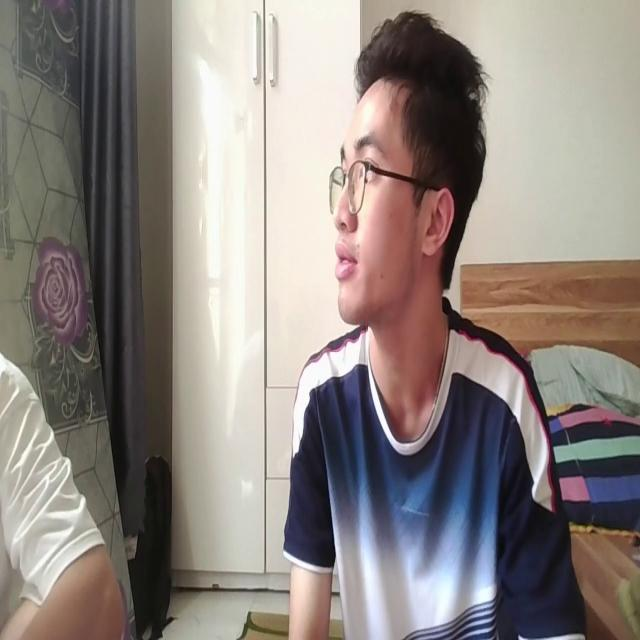extra_person: (0, 348, 135, 640)
student: (285, 8, 593, 640)
